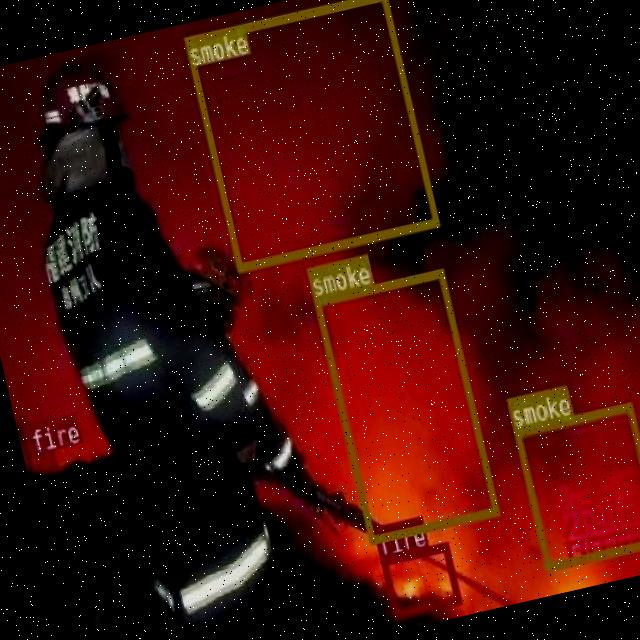fire: (379, 540, 460, 618), (32, 450, 55, 470)
smoke: (181, 0, 438, 271), (312, 268, 498, 542), (511, 400, 640, 569)
